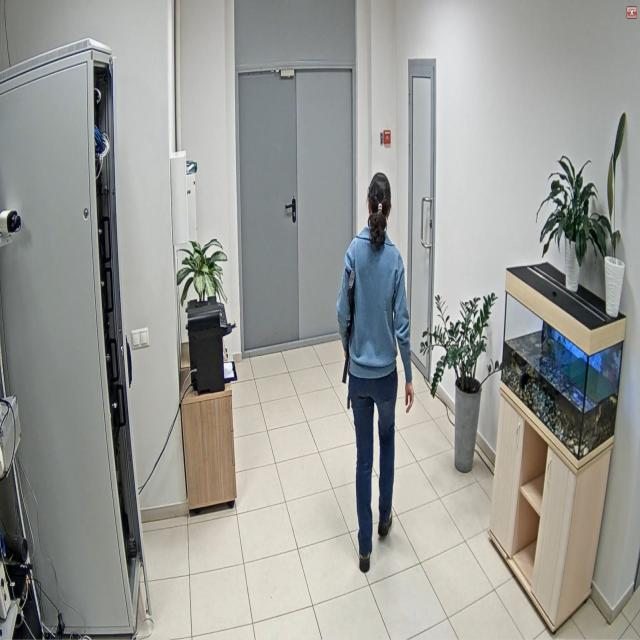-Gun: (342, 268, 355, 382)
